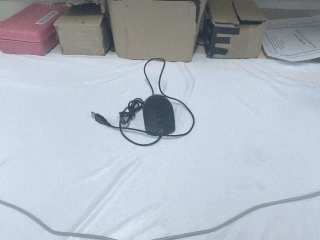box: (106, 1, 207, 65), (198, 1, 268, 61), (1, 1, 73, 59), (53, 1, 116, 58)
mouse: (141, 94, 177, 138)
